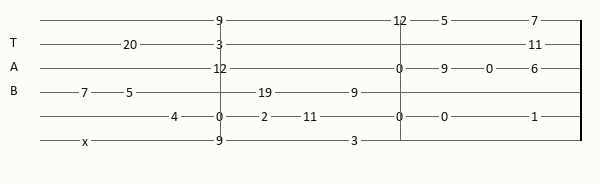0: (216, 110, 227, 123), (396, 110, 407, 123), (396, 62, 407, 75), (441, 110, 452, 123), (486, 62, 497, 75)
1: (531, 110, 542, 123)
11: (303, 110, 321, 123), (528, 38, 546, 51)
12: (213, 62, 231, 75), (393, 14, 411, 27)
19: (258, 86, 276, 99)
2: (261, 110, 272, 123)
20: (123, 38, 141, 51)
3: (216, 38, 227, 51), (351, 134, 362, 147)
4: (171, 110, 182, 123)
5: (126, 86, 137, 99), (441, 14, 452, 27)
6: (531, 62, 542, 75)
7: (81, 86, 92, 99), (531, 14, 542, 27)
9: (216, 14, 227, 27), (216, 134, 227, 147), (351, 86, 362, 99), (441, 62, 452, 75)
x: (82, 135, 92, 146)
